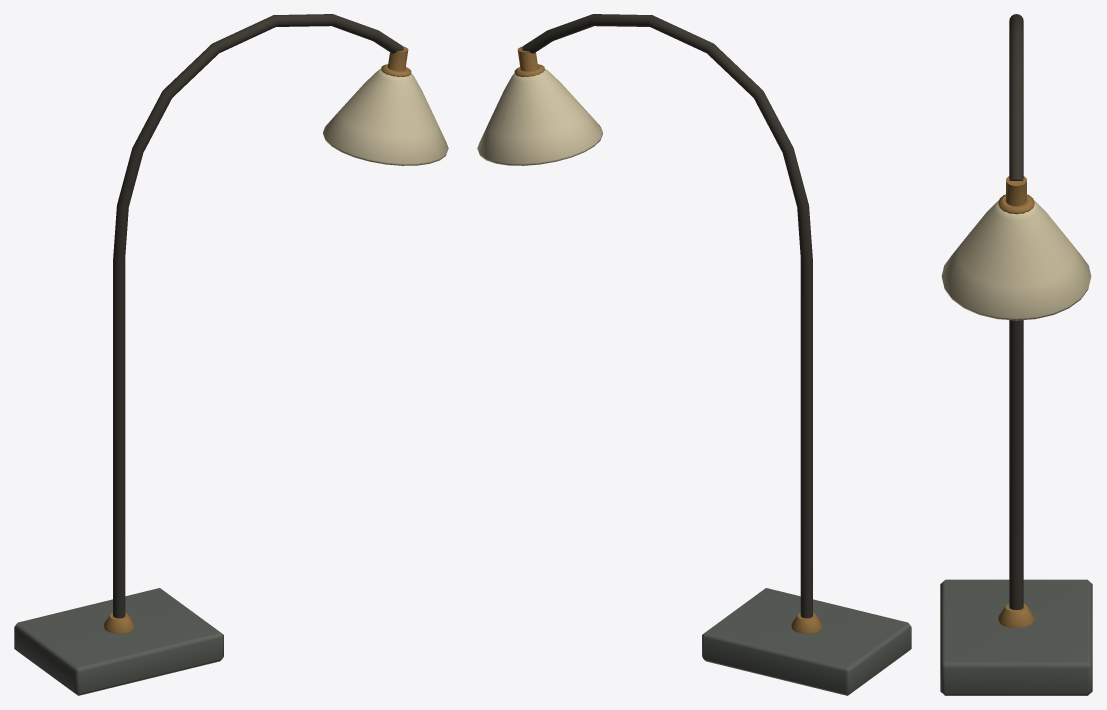
File: rpg-mansion-arched-reading-floor-lamp-01.glb
3 views of the same model, side by side, from view 1: azimuth 30°, elevation 25°; view 2: azimuth 150°, elevation 25°; view 3: azimuth 270°, elevation 25° (orthographic). The views are drawn at different scales.
Parts seen in each view (by area): view 1: rpg-mansion-arched-reading-floor-lamp-01; view 2: rpg-mansion-arched-reading-floor-lamp-01; view 3: rpg-mansion-arched-reading-floor-lamp-01.
Boxes of the visible parts, x1,y1,x2,y2 form: rpg-mansion-arched-reading-floor-lamp-01: [14, 14, 448, 695]; rpg-mansion-arched-reading-floor-lamp-01: [477, 14, 911, 695]; rpg-mansion-arched-reading-floor-lamp-01: [940, 14, 1092, 695].
Bounding box in the file's own units: 1.27 × 1.85 × 0.36.
